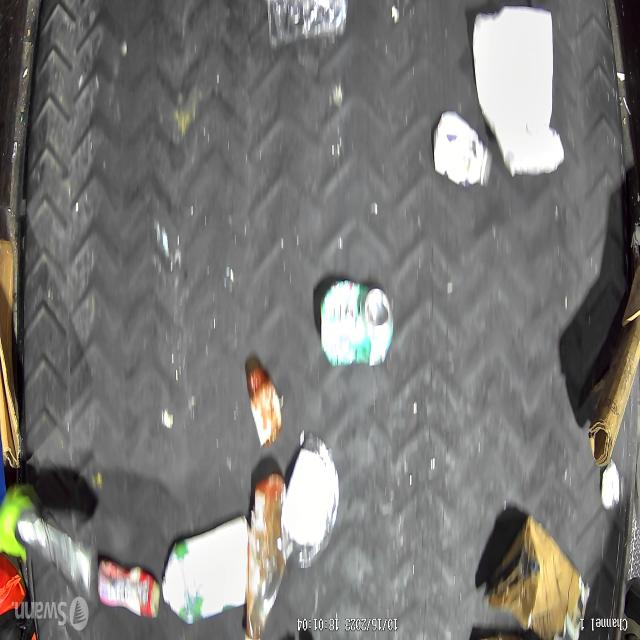can: (319, 280, 393, 368)
milk_jug: (472, 6, 566, 178), (162, 516, 248, 624)
